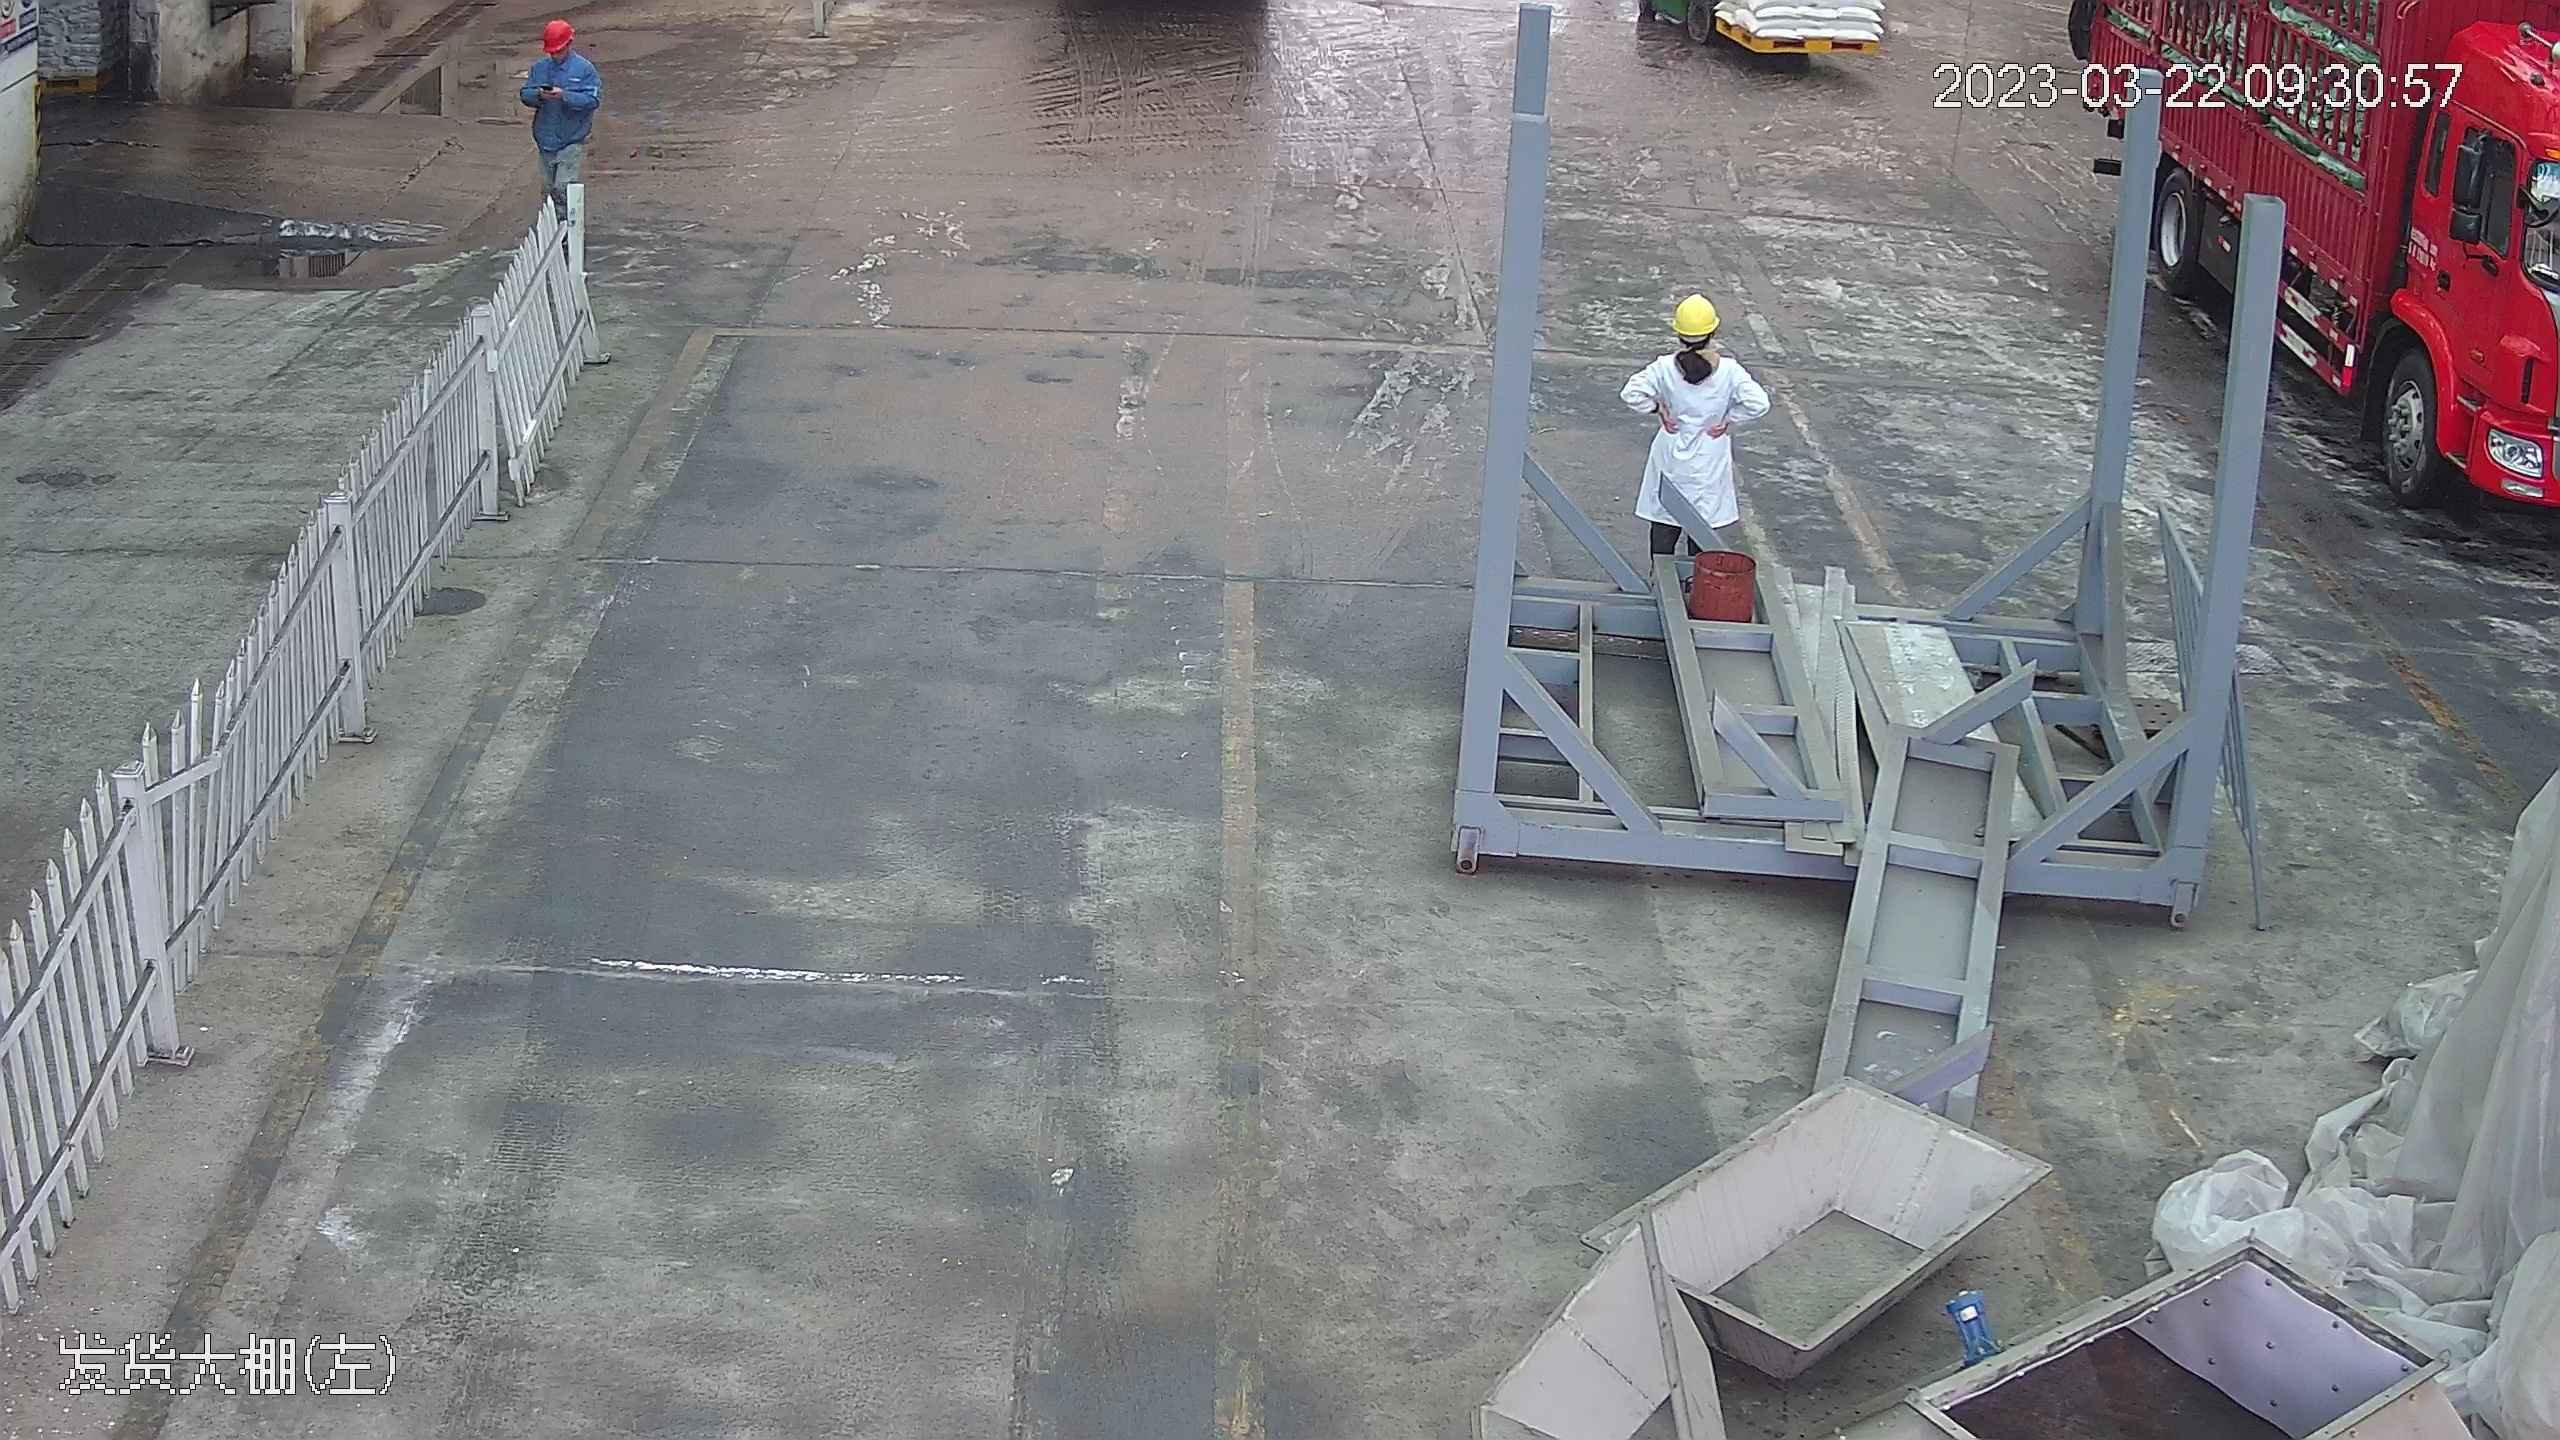head: (1649, 291, 1745, 421), (524, 14, 595, 90)
helmet: (1666, 290, 1722, 339), (538, 15, 579, 45)
people: (1635, 288, 1761, 640), (515, 10, 603, 223)
truck: (2078, 0, 2557, 566)
